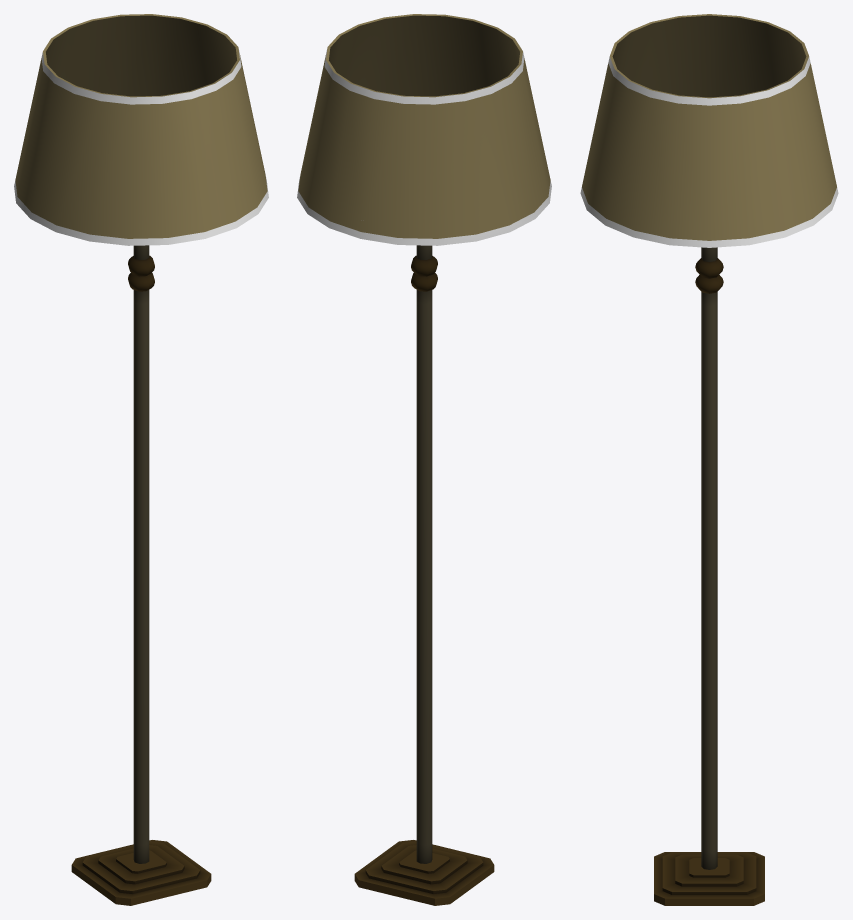
File: floorlamp01.fbx
3 views of the same model, side by side, from view 1: azimuth 30°, elevation 25°; view 2: azimuth 150°, elevation 25°; view 3: azimuth 270°, elevation 25° (orthographic).
Visible parts, largest first — view 1: floorlamp01(Clone); view 2: floorlamp01(Clone); view 3: floorlamp01(Clone).
Part boxes in pixels (x1,y1,x2,y2): floorlamp01(Clone): (14, 14, 268, 905); floorlamp01(Clone): (297, 14, 551, 905); floorlamp01(Clone): (580, 14, 838, 905).
Bounding box in the file's own units: 0.4282 × 1.51 × 0.4282.
